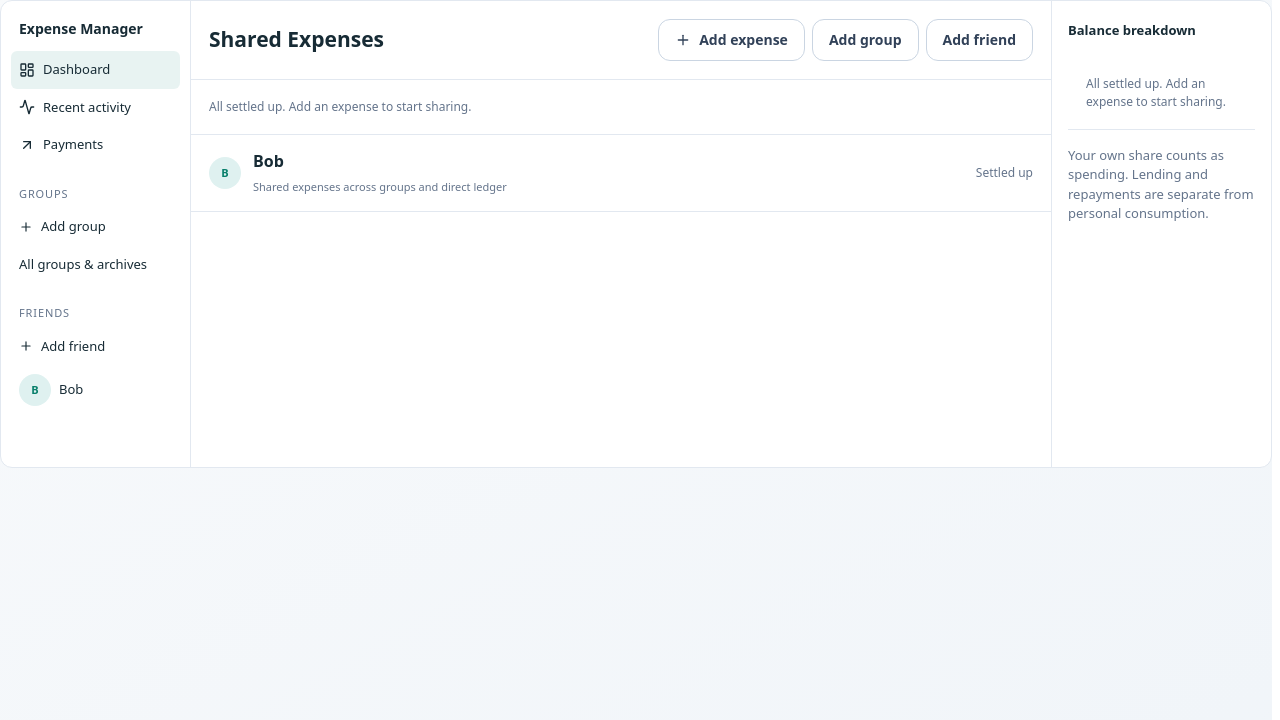
shared workspace navigation and expense preview › keeps zero-debt expenses visible and opens their details
The image size is (1280, 720).
Expected: the heading "Shared Expenses" is shown, [209,24,384,56]
Click the button "Recent activity": [96, 107] box [11,88,180,126]
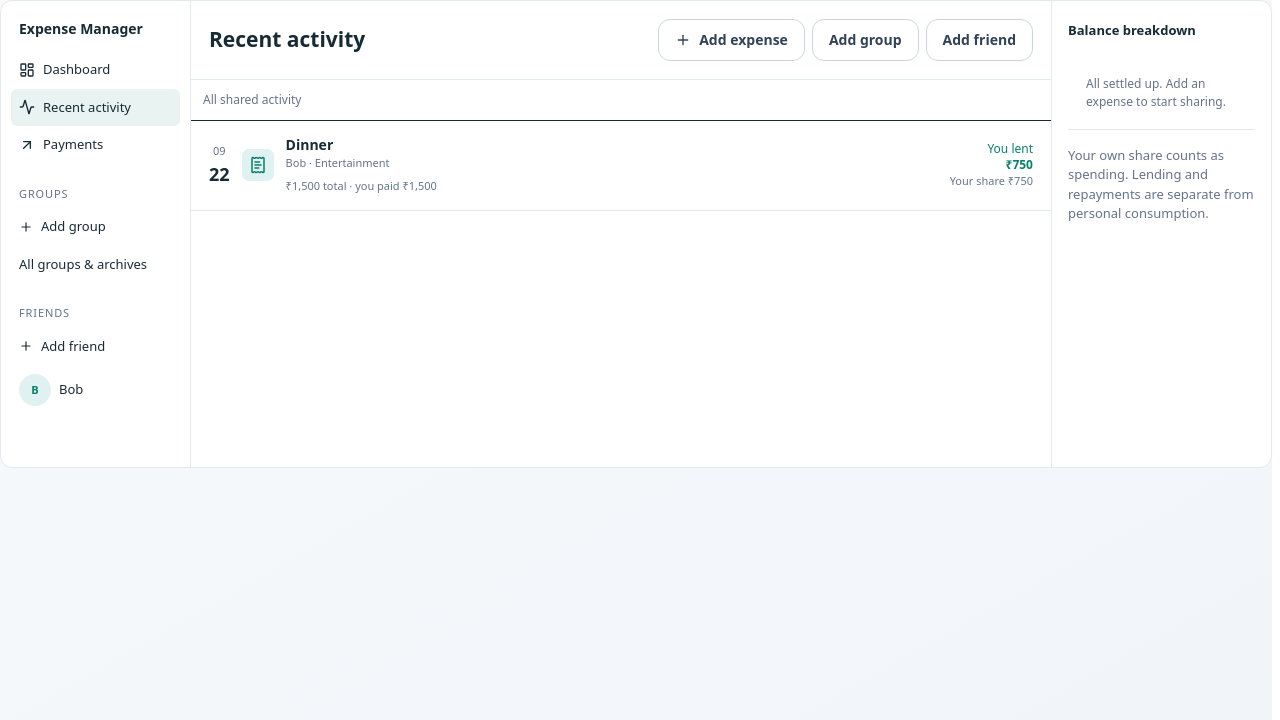
Click the button "Dinner": [258, 165] box [191,121,1051,210]
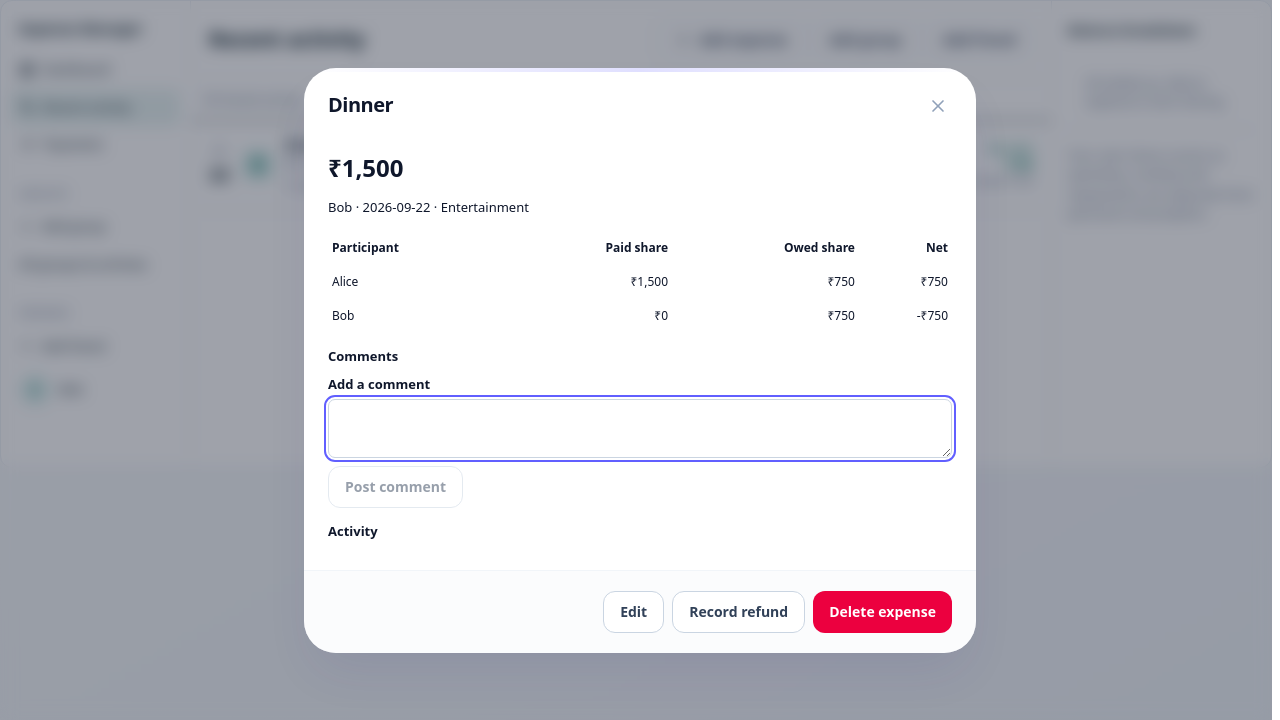
Expected: the dialog "Dinner" is shown, [304,68,976,652]
